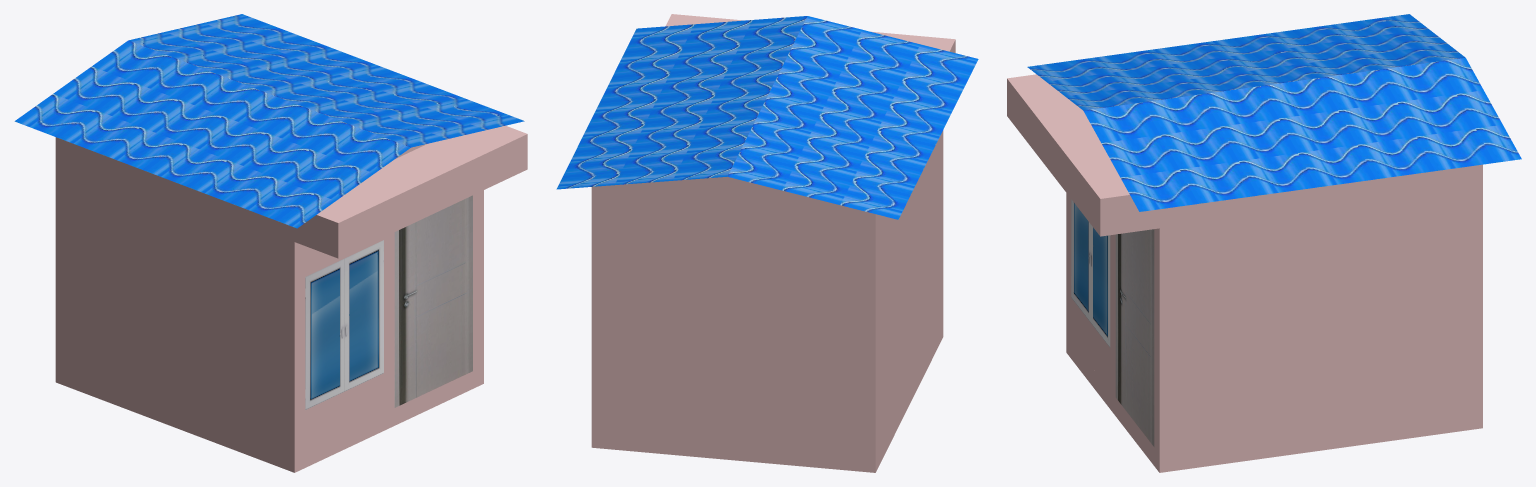
File: unknow6.fbx
3 renders of one model, left to right at view 1: azimuth 30°, elevation 25°; view 2: azimuth 150°, elevation 25°; view 3: azimuth 270°, elevation 25°, orthographic. The views are drawn at different scales.
Visible parts, largest first — view 1: CityEngineMaterial_m, CityEngineMaterial_1_m, CityEngineMaterial_4_m, CityEngineMaterial_3_m; view 2: CityEngineMaterial_m, CityEngineMaterial_1_m, CityEngineMaterial_2_m; view 3: CityEngineMaterial_m, CityEngineMaterial_1_m, CityEngineMaterial_4_m, CityEngineMaterial_3_m.
Part boxes in pixels (x1,y1,x2,y2): CityEngineMaterial_m: (55,125,527,472); CityEngineMaterial_1_m: (14,14,524,228); CityEngineMaterial_4_m: (394,195,472,407); CityEngineMaterial_3_m: (305,240,383,409); CityEngineMaterial_m: (591,14,955,472); CityEngineMaterial_1_m: (556,16,978,219); CityEngineMaterial_2_m: (666,176,787,192); CityEngineMaterial_m: (1007,74,1482,472); CityEngineMaterial_1_m: (1027,14,1521,211); CityEngineMaterial_4_m: (1115,229,1154,446); CityEngineMaterial_3_m: (1071,199,1110,347).
Size of the model in its own units: 7.53 by 5.43 by 8.27.
